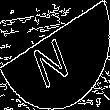N_NW: (33, 23, 77, 87)
